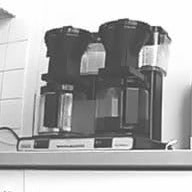not empty coffee: (92, 75, 151, 138)
